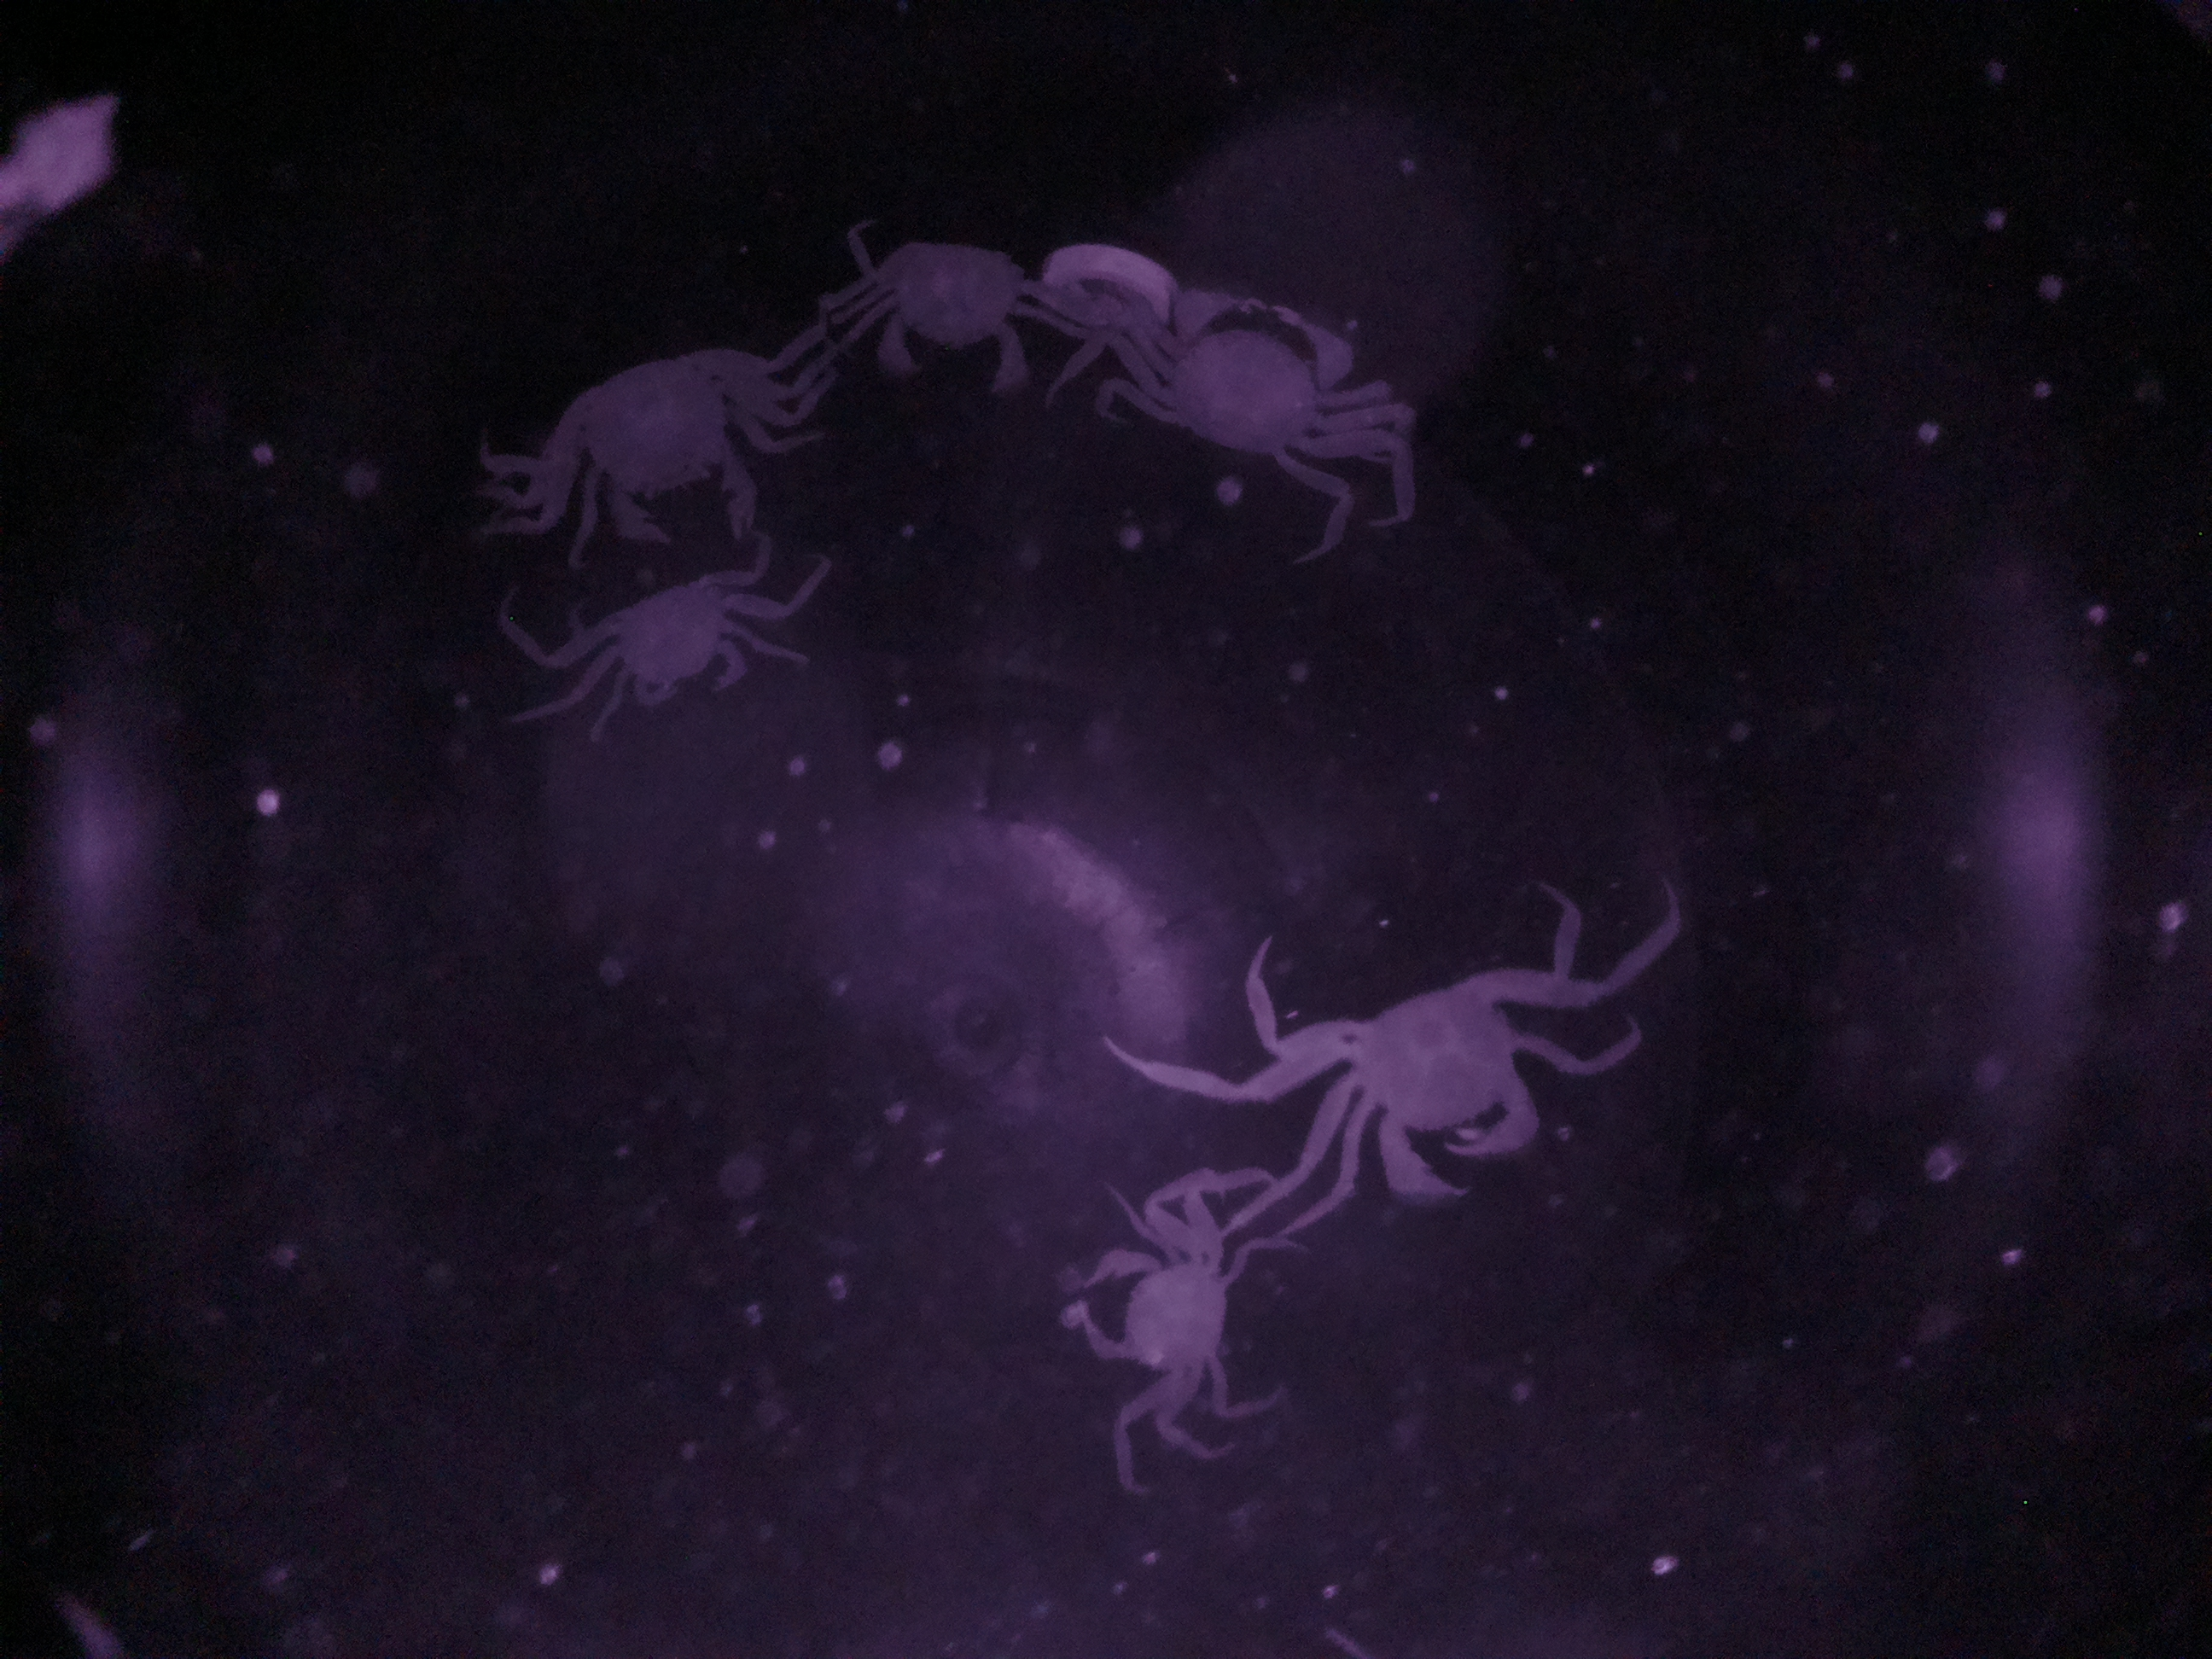Crab: (1332, 950, 1559, 1241), (536, 338, 798, 561), (1155, 270, 1371, 498), (857, 220, 1059, 410), (1052, 1206, 1235, 1396), (580, 563, 796, 720)
